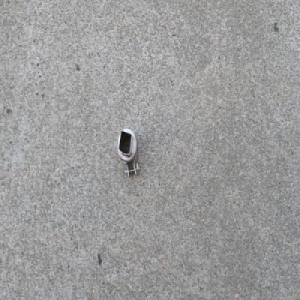MetalPart: (115, 126, 141, 180)
